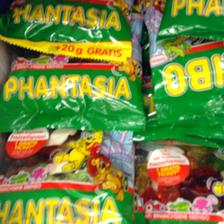Suessigkeit: (0, 0, 140, 132), (2, 126, 134, 222), (143, 0, 223, 116), (128, 126, 222, 222)
